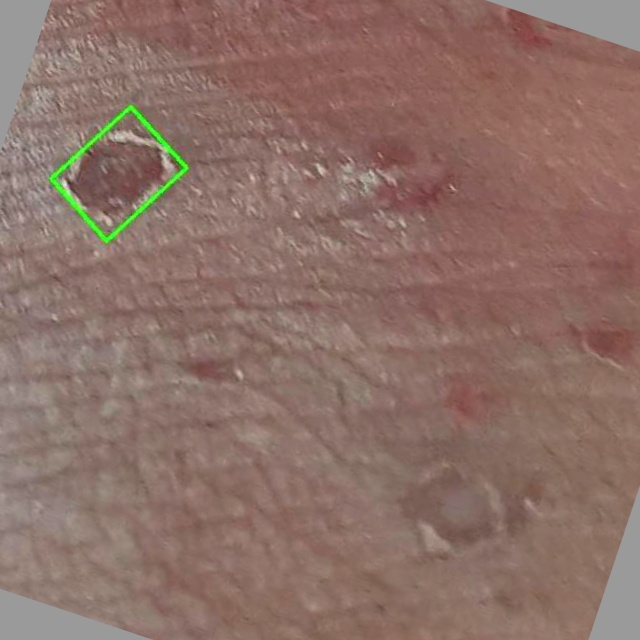Contact Dermatitis: (50, 105, 186, 240)
